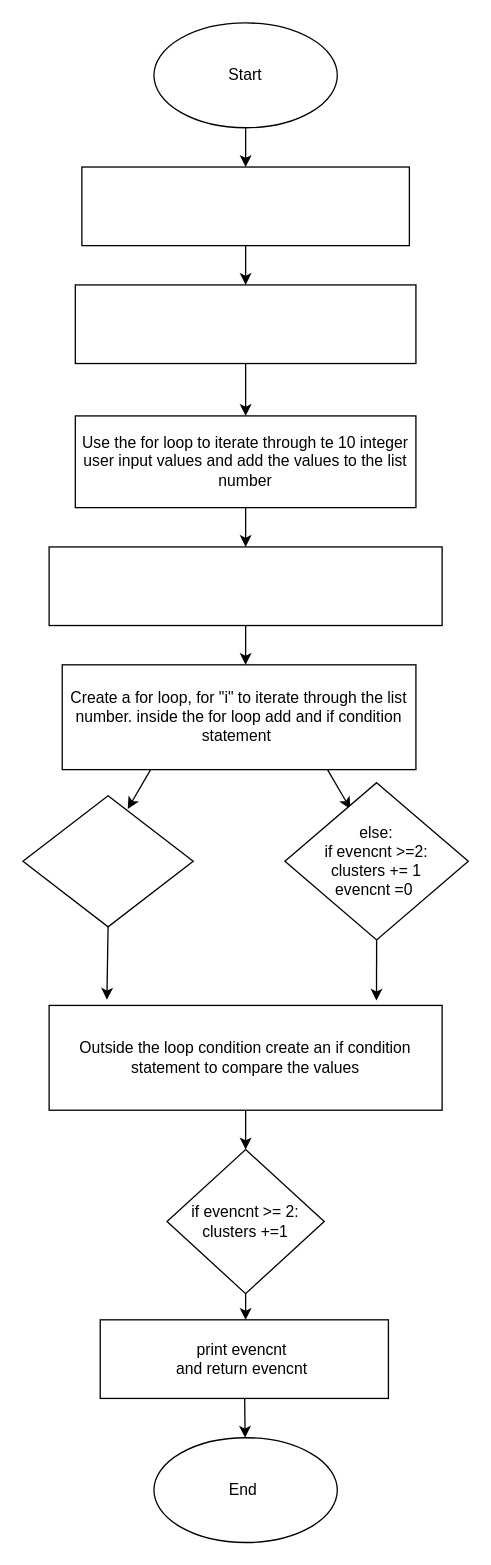
This 491x1565 diagram has some shape labels left out. The box of each missing label's shape, as (x1, y1, x2, y2) in pixels:
Create a list call it number: (81, 166, 409, 246)
Create a variabe call it evencnt and set it equal to 0: (74, 284, 416, 364)
Create a variable call it clusters and set it equal to 0: (48, 546, 442, 626)
if i % 2==0 evencnt += 1: (22, 795, 193, 927)
